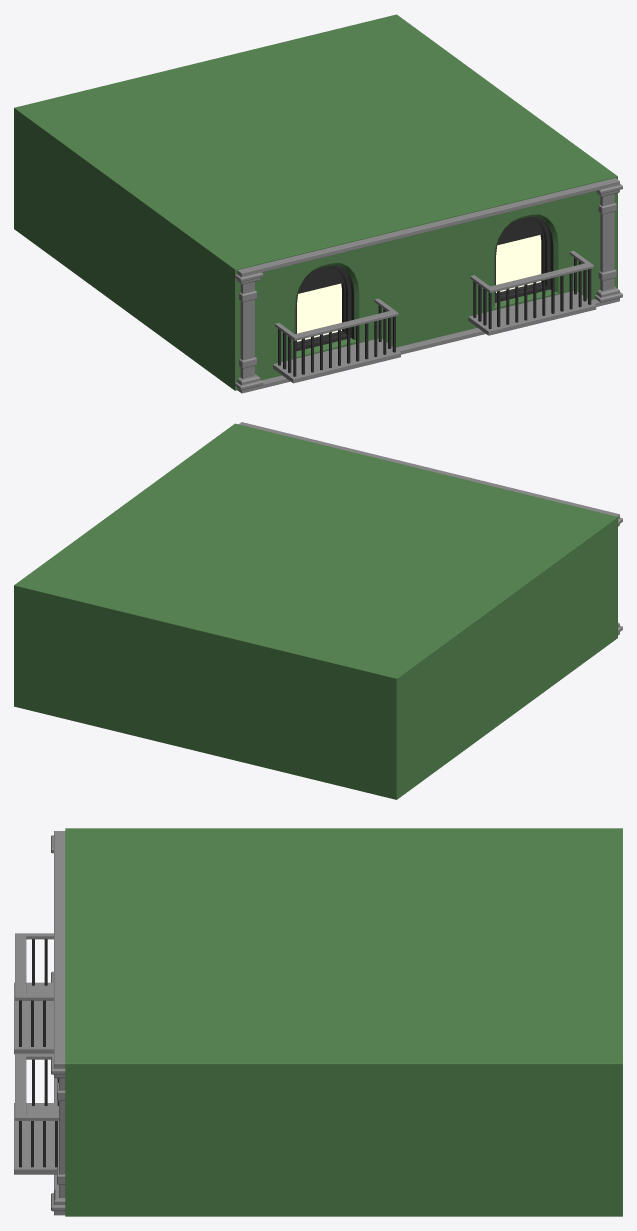
Rendered from Building1 middle.fbx.
3 renders of one model, top to bottom at view 1: azimuth 30°, elevation 25°; view 2: azimuth 150°, elevation 25°; view 3: azimuth 270°, elevation 25°, orthographic. The views are drawn at different scales.
Visible parts, largest first — view 1: MIDDLE BUILDING MIDDLE; view 2: MIDDLE BUILDING MIDDLE; view 3: MIDDLE BUILDING MIDDLE.
Part boxes in pixels (x1=…): MIDDLE BUILDING MIDDLE: x1=14, y1=14, x2=622, y2=393; MIDDLE BUILDING MIDDLE: x1=14, y1=422, x2=622, y2=799; MIDDLE BUILDING MIDDLE: x1=14, y1=828, x2=622, y2=1216.
Bounding box in the file's own units: 1000 × 303 × 1092.
